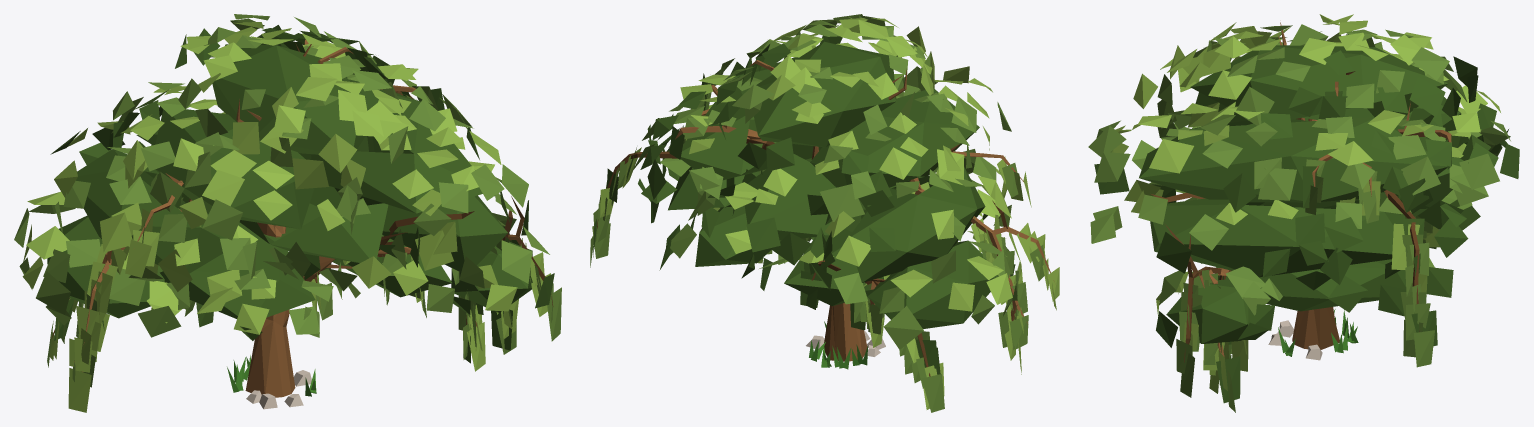
The model's file is elm_2_bloom.glb.
3 views of the same model, side by side, from view 1: azimuth 30°, elevation 25°; view 2: azimuth 150°, elevation 25°; view 3: azimuth 270°, elevation 25° (orthographic). The views are drawn at different scales.
Parts seen in each view (by area): view 1: elm_2_bloom; view 2: elm_2_bloom; view 3: elm_2_bloom.
Boxes of the visible parts, box(x1,y1,x2,y2) form: elm_2_bloom: box(14, 14, 561, 412); elm_2_bloom: box(590, 14, 1059, 412); elm_2_bloom: box(1088, 14, 1519, 412).
Bounding box in the file's own units: 8.49 × 6.24 × 7.61.
